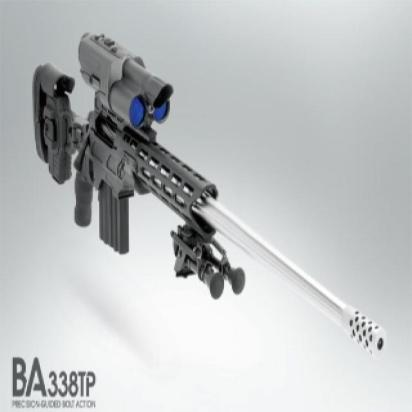Gun: (27, 31, 385, 358)
